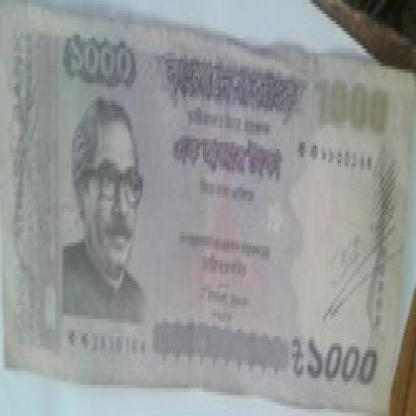One Thousand taka: (286, 326, 380, 395), (67, 31, 138, 87)
